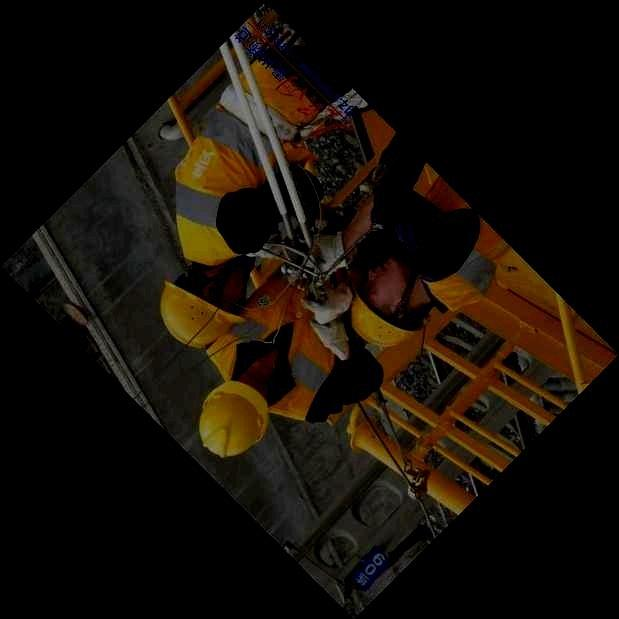helmet: (199, 353, 277, 458), (159, 262, 247, 350), (351, 258, 431, 347)
